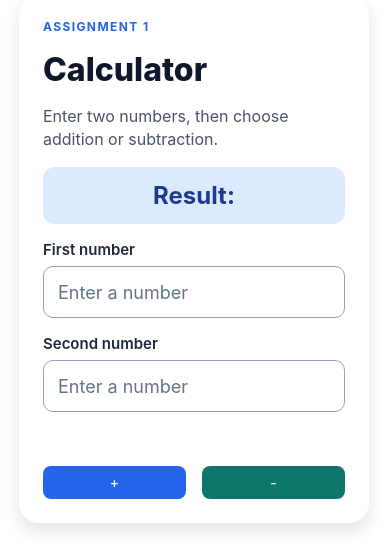
Scenario: Calculator screen › keeps the previous result when the next input is invalid
The width and height of the screenshot is (389, 551).
In the field named "First number": [194, 292] box [43,266,345,318], type "23"
In the field named "Second number": [194, 386] box [43,360,345,412], type "12"
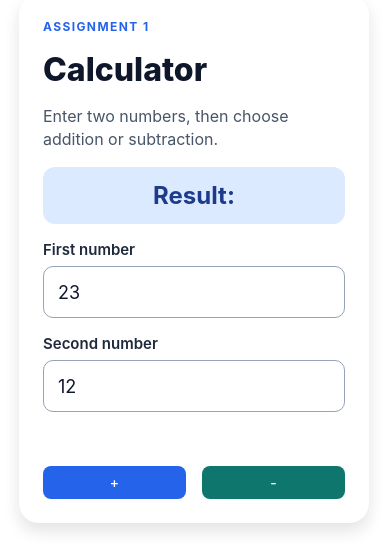
Click the button "+": [114, 482] box [43,466,186,499]
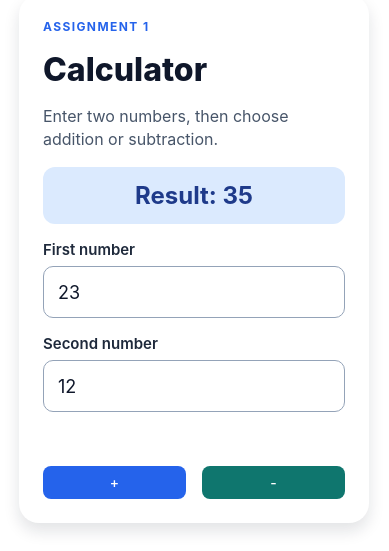
Now the text with test id "result-message" reads "Result: 35", box [135,181,253,210]
Clear the field named "Second number": [194, 386] box [43,360,345,412]
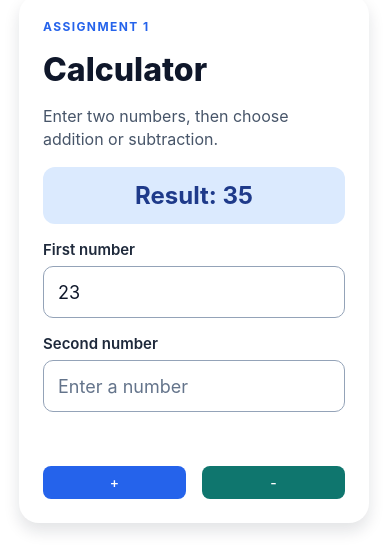
Click the button "+": [114, 482] box [43,466,186,499]
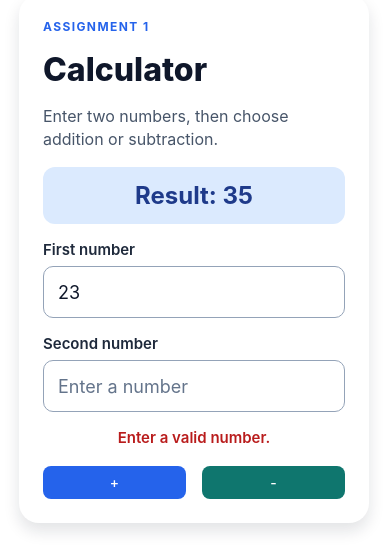
Now the text with test id "result-message" reads "Result: 35", box [135,181,253,210]
Now the text with test id "error-message" reads "Enter a valid number.", box [118,428,270,447]
In the field named "Second number": [194, 386] box [43,360,345,412], type "1"
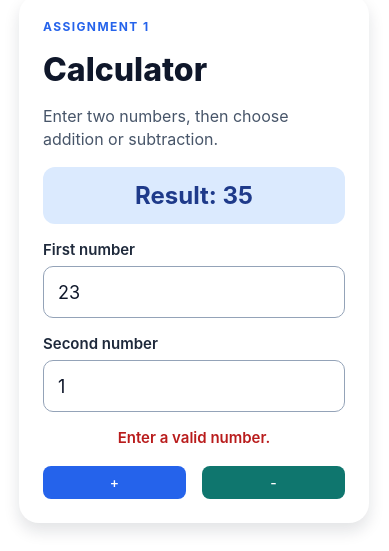
Click the button "+": [114, 482] box [43,466,186,499]
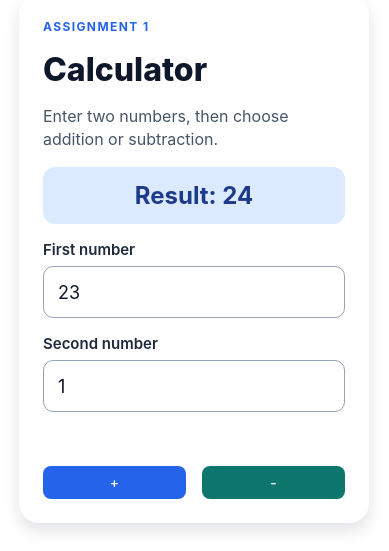
Now the text "Enter a valid number." is gone
